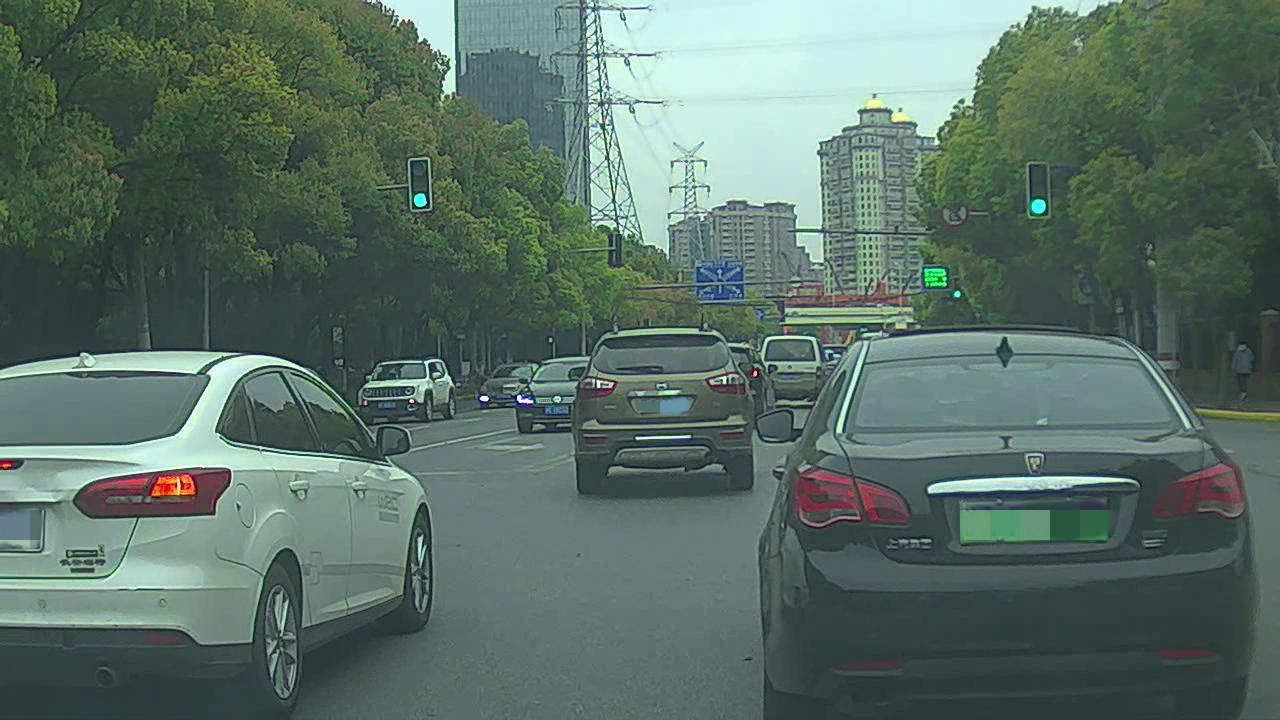traffic_light: (407, 159, 434, 213), (1027, 165, 1050, 219)
